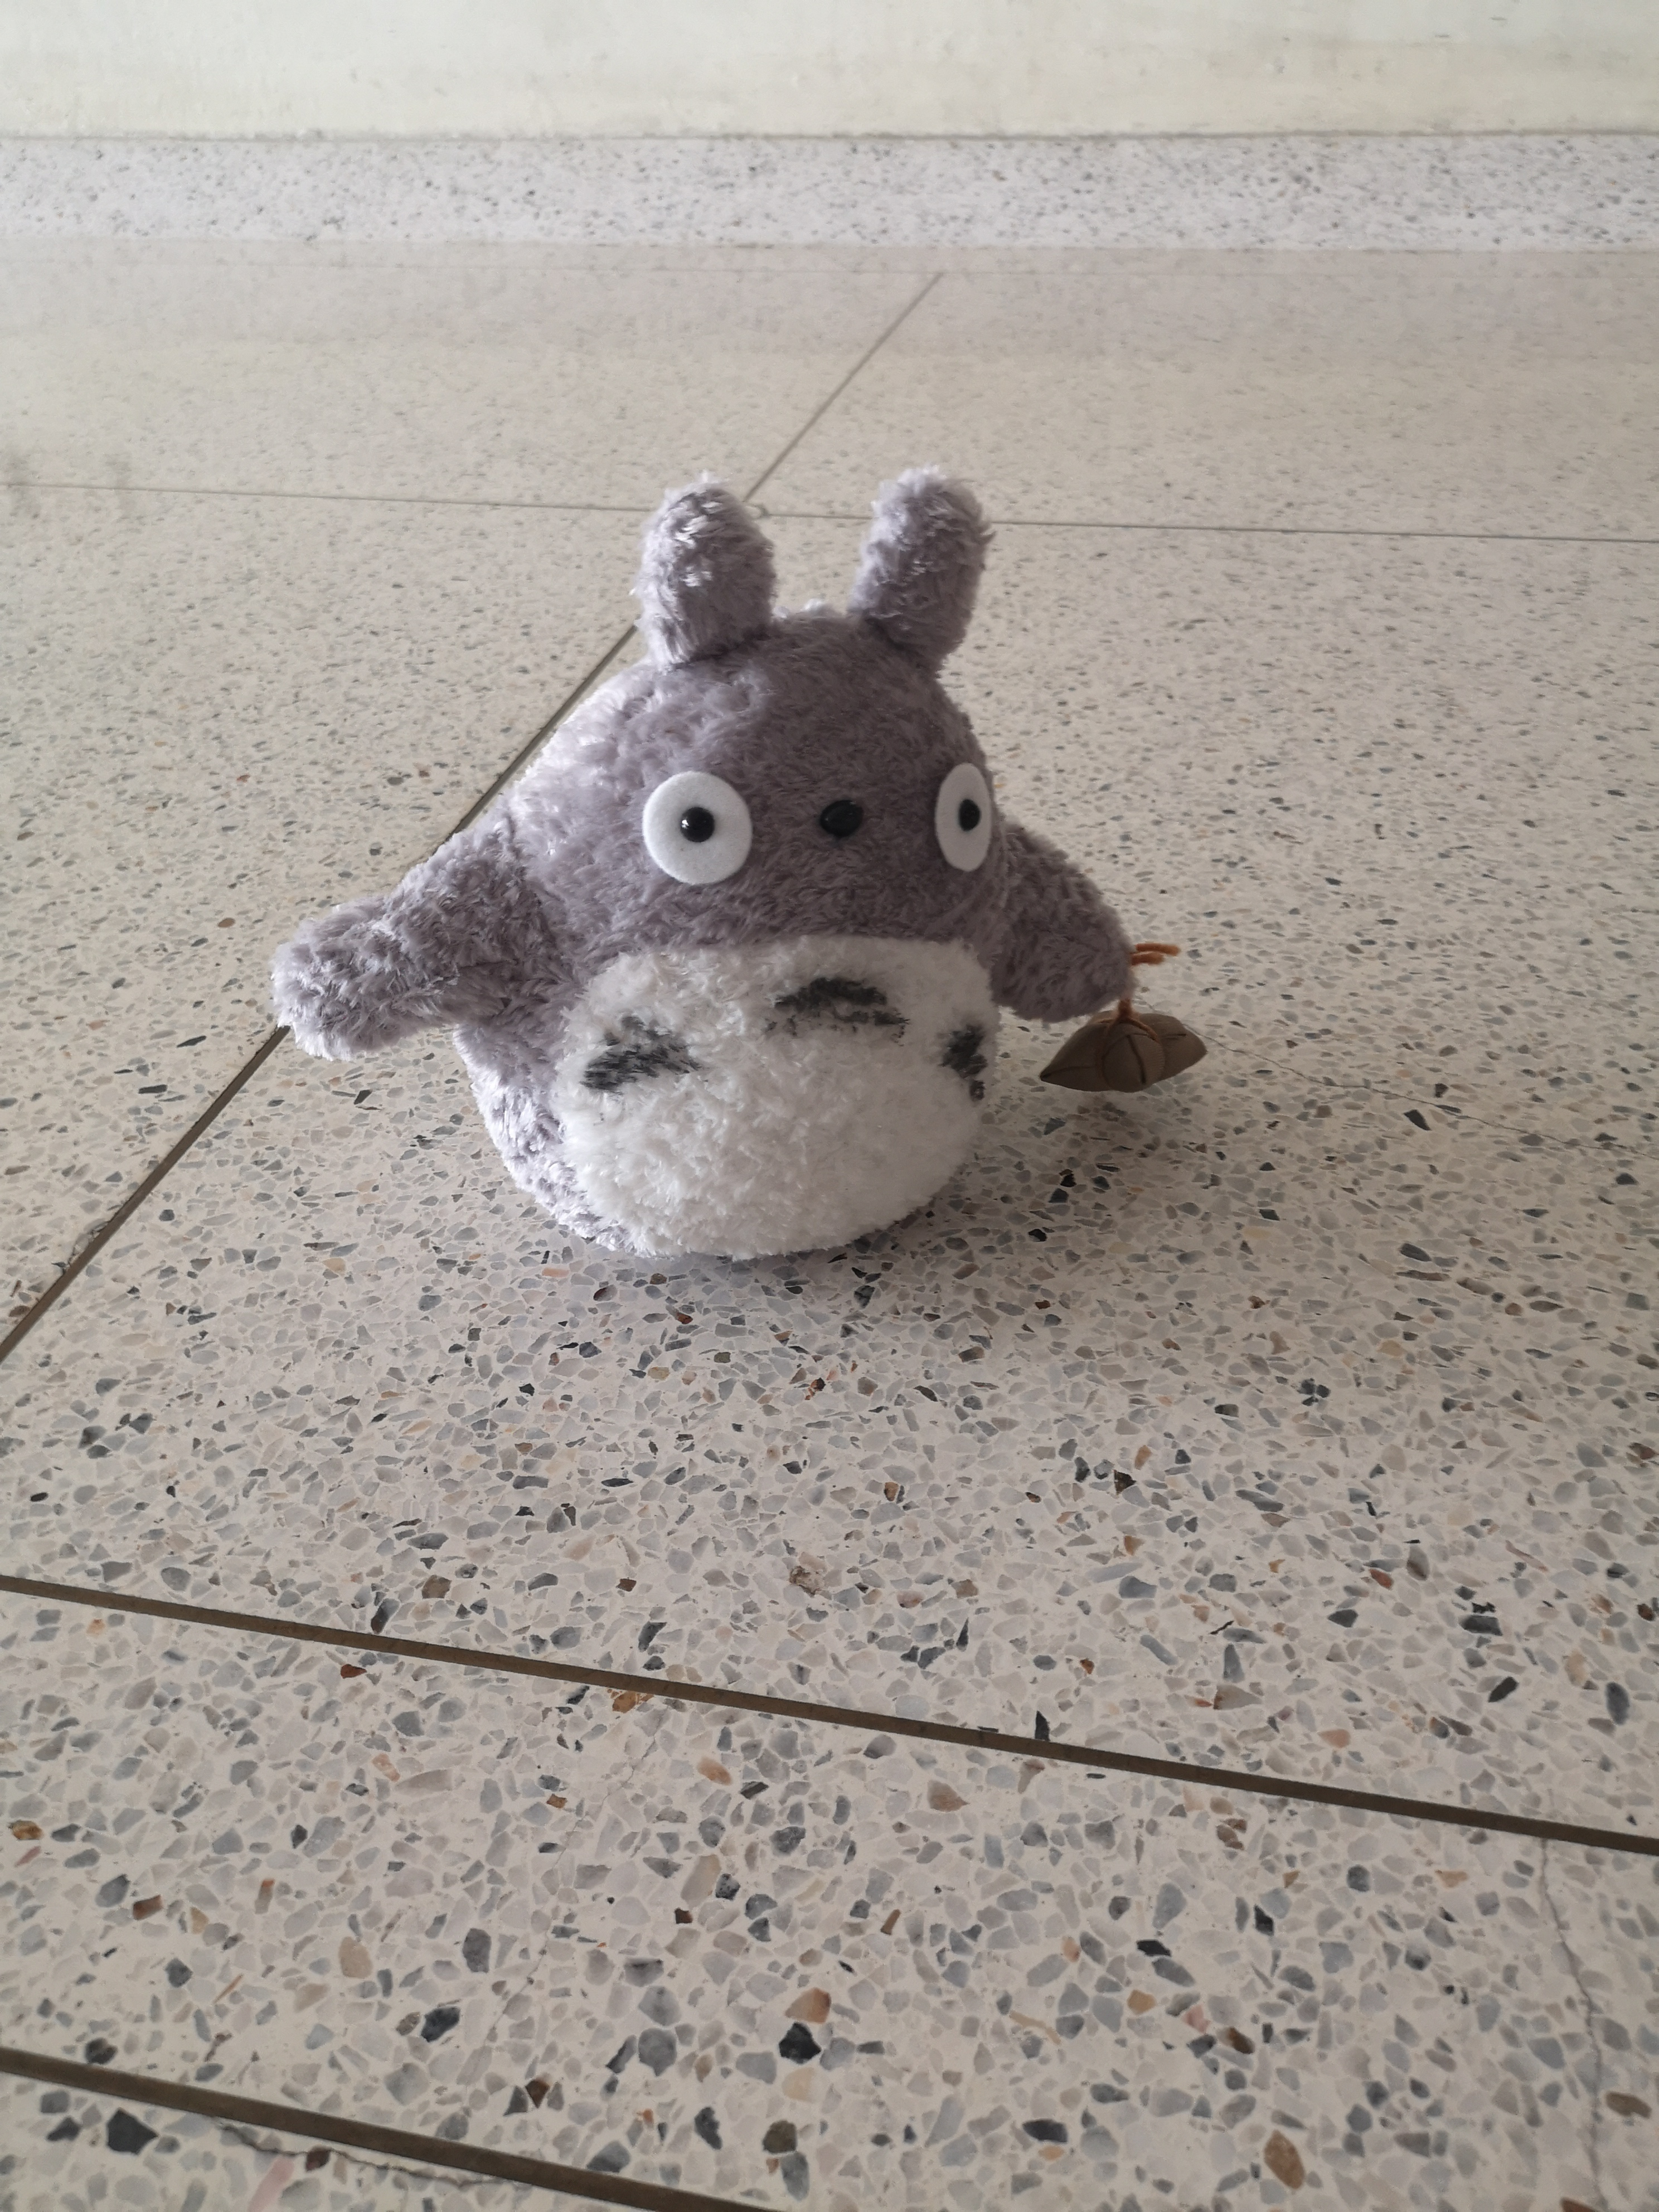totoro: (260, 465, 1215, 1278)
